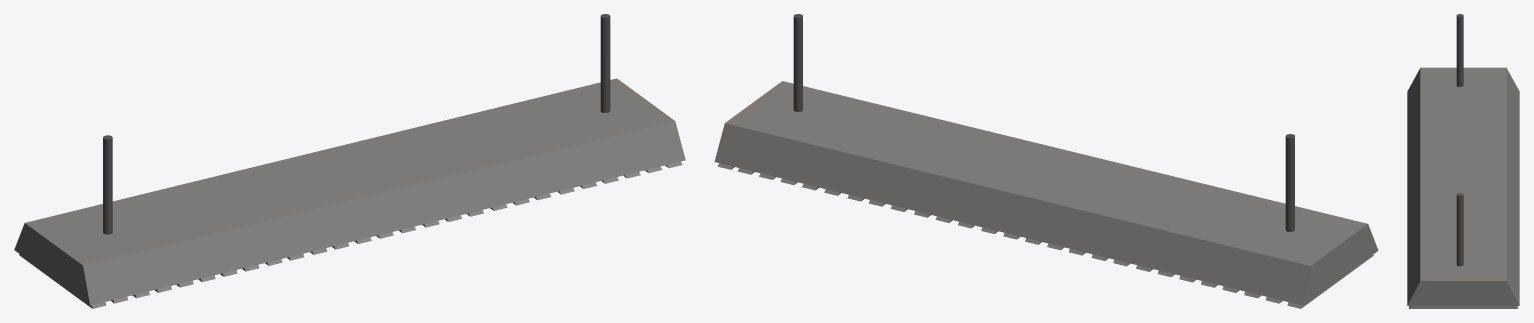
Rendered from ceiling_lamp.fbx.
The picture shows the model from 3 angles, left to right: view 1: azimuth 30°, elevation 25°; view 2: azimuth 150°, elevation 25°; view 3: azimuth 270°, elevation 25°; orthographic projection. The views are drawn at different scales.
Parts seen in each view (by area): view 1: pCylinder6; view 2: pCylinder6; view 3: pCylinder6.
Part boxes in pixels (<box>): pCylinder6: <box>14,14,685,308</box>; pCylinder6: <box>714,14,1378,308</box>; pCylinder6: <box>1407,14,1519,308</box>.
Bounding box in the file's own units: 5.9 × 1.27 × 1.3.
